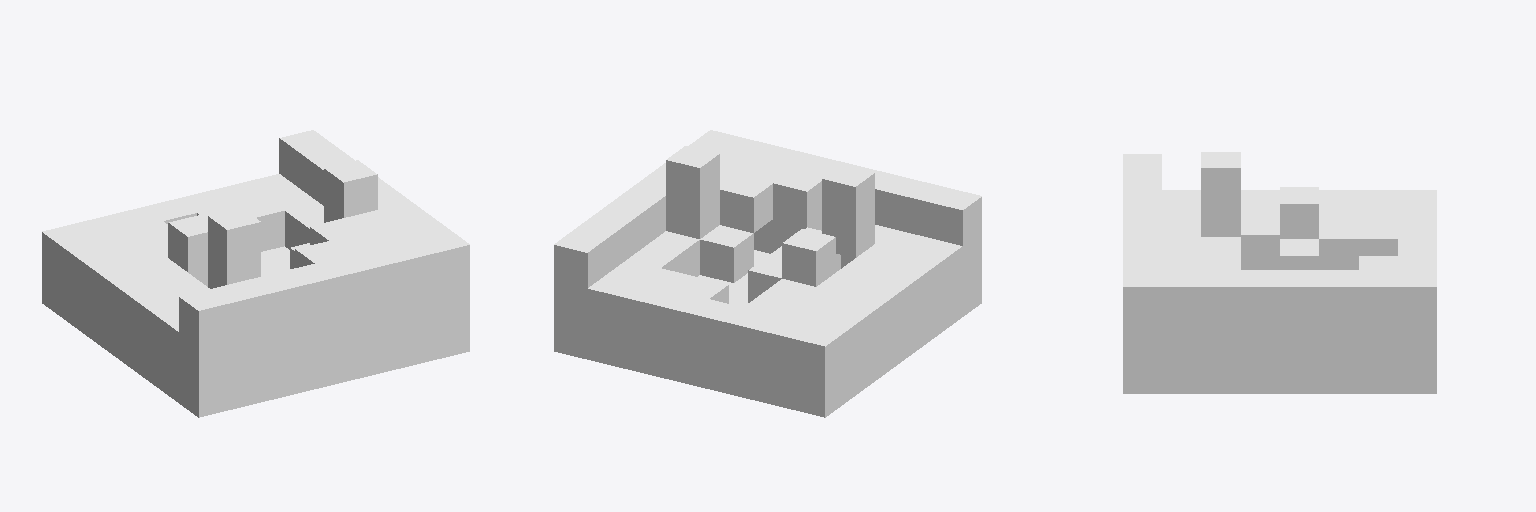
File: Lava8.obj
3 views of the same model, side by side, from view 1: azimuth 30°, elevation 25°; view 2: azimuth 150°, elevation 25°; view 3: azimuth 270°, elevation 25° (orthographic).
Parts seen in each view (by area): view 1: object 1; view 2: object 1; view 3: object 1.
Part boxes in pixels (bbox=[...]): object 1: bbox=[42, 130, 469, 417]; object 1: bbox=[554, 130, 981, 417]; object 1: bbox=[1123, 152, 1436, 393].
Size of the model in its own units: 0.8 by 0.4 by 0.8.